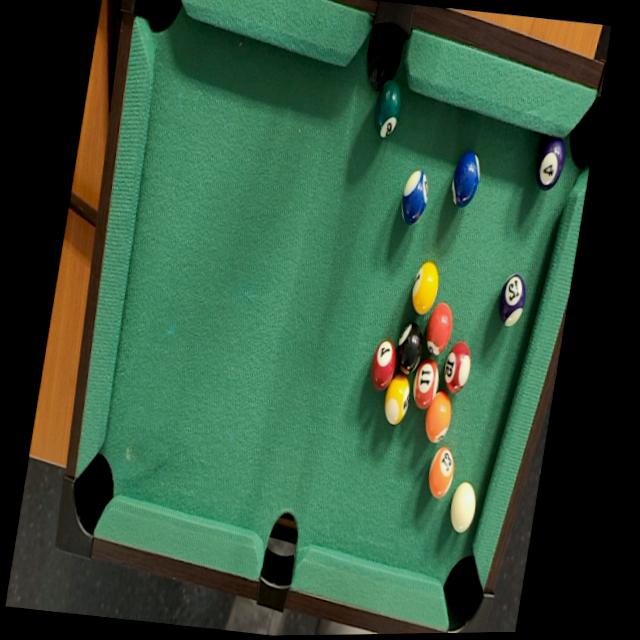cue ball: (446, 480, 482, 535)
other: (446, 136, 487, 217), (421, 434, 461, 508), (393, 160, 436, 228), (368, 71, 407, 141), (419, 291, 456, 359), (495, 266, 531, 333), (417, 386, 456, 446), (407, 251, 442, 317), (391, 317, 427, 380), (379, 370, 417, 429), (410, 353, 444, 415), (439, 337, 475, 395), (367, 334, 401, 394), (533, 130, 567, 189)
